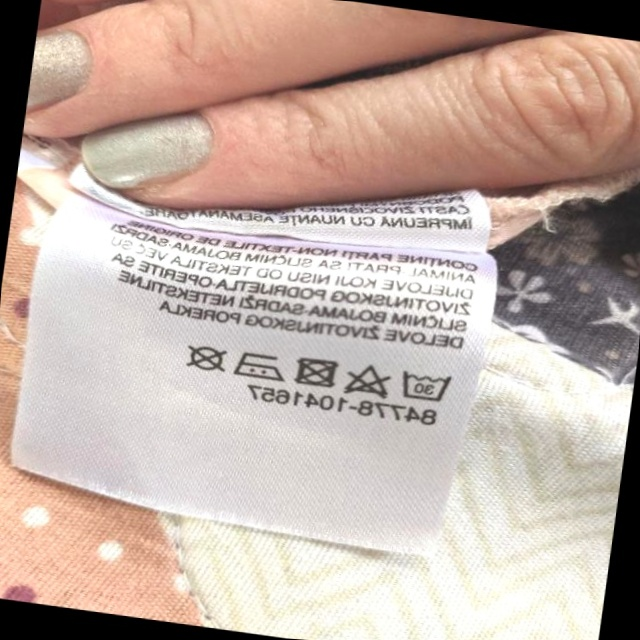30C: (394, 363, 455, 407)
DN_bleach: (344, 358, 393, 402)
DN_dry_clean: (182, 342, 231, 376)
DN_tumble_dry: (290, 353, 342, 394)
iron_medium: (229, 345, 287, 384)
